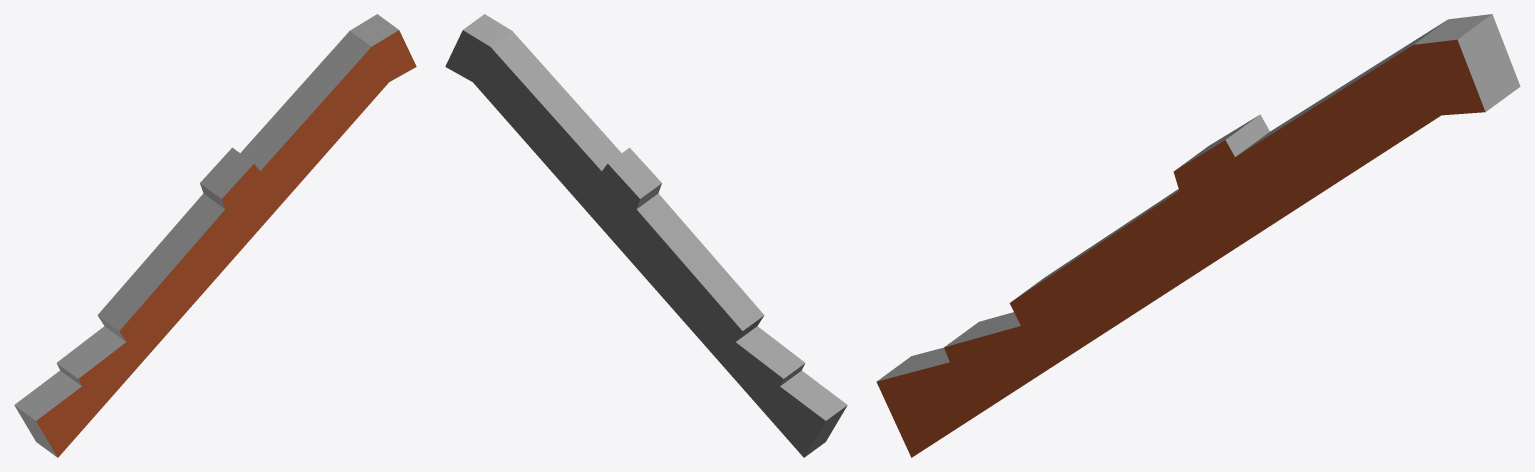
Rendered from construction_4055_assumed_A_Casa_h6m.obj.
3 renders of one model, left to right at view 1: azimuth 30°, elevation 25°; view 2: azimuth 150°, elevation 25°; view 3: azimuth 330°, elevation 25°, orthographic. The views are drawn at different scales.
Parts seen in each view (by area): view 1: construction_4055_assumed_A_Casa; view 2: construction_4055_assumed_A_Casa; view 3: construction_4055_assumed_A_Casa.
Boxes of the visible parts, <box> form: construction_4055_assumed_A_Casa: <box>14,14,416,457</box>; construction_4055_assumed_A_Casa: <box>445,14,847,457</box>; construction_4055_assumed_A_Casa: <box>876,14,1520,457</box>.
Size of the model in its own units: 60.32 by 52.19 by 6.
